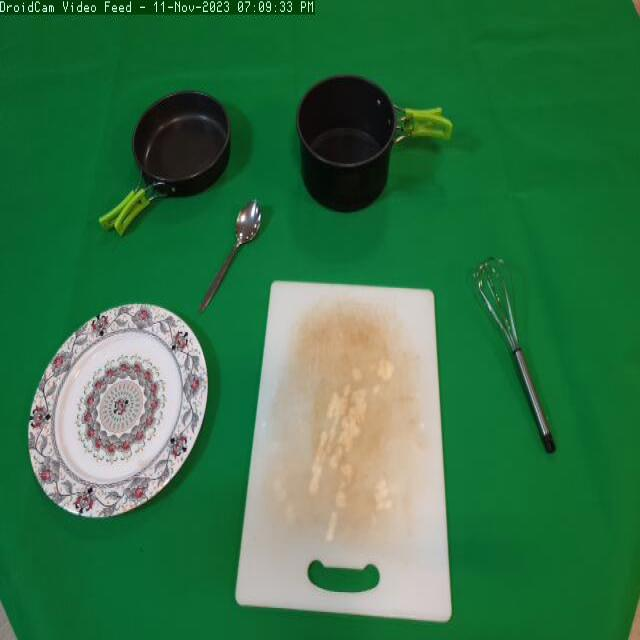cutting board: (236, 267, 455, 638)
pan: (94, 82, 232, 239)
plate: (29, 297, 217, 523)
pot: (289, 71, 454, 232)
spoon: (192, 190, 274, 324)
whisk: (472, 258, 573, 466)
